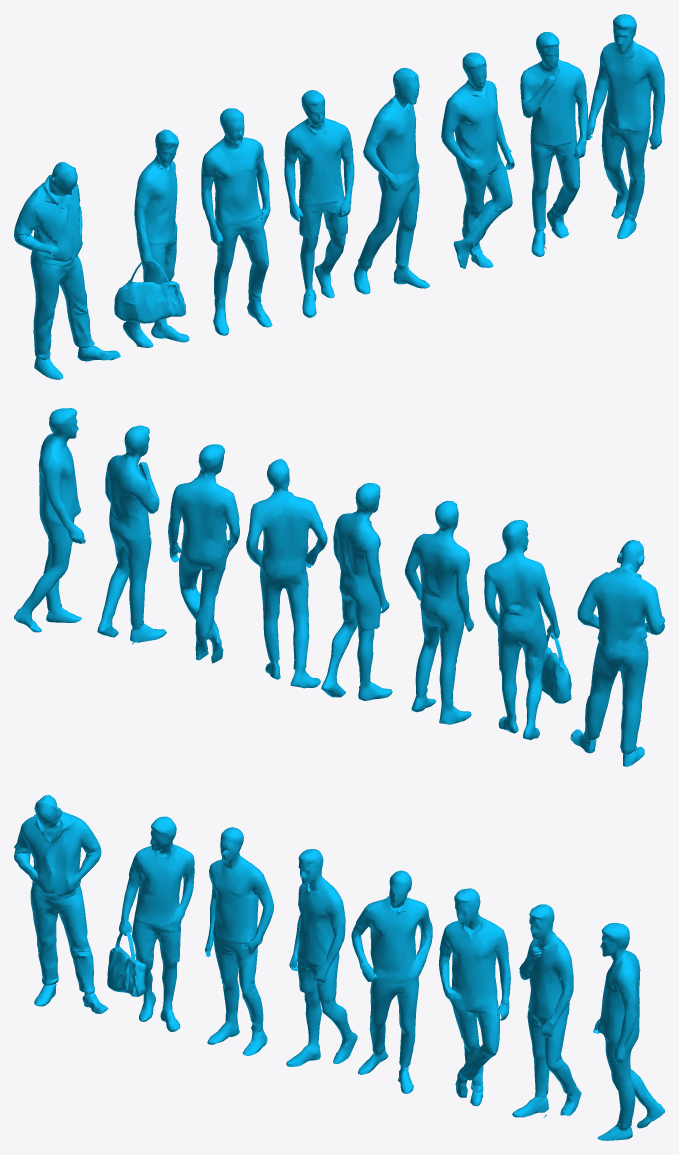
The model's file is LOW_POLY_PEOPLE_PACK_MALE.glb.
3 renders of one model, top to bottom at view 1: azimuth 30°, elevation 25°; view 2: azimuth 150°, elevation 25°; view 3: azimuth 330°, elevation 25°, orthographic.
Visible parts, largest first — view 1: 1__0, 8__0, 3__0, 4__0, 7__0, 2__0, 6__0, 5__0; view 2: 1__0, 2__0, 5__0, 6__0, 3__0, 7__0, 4__0, 8__0; view 3: 1__0, 2__0, 5__0, 6__0, 3__0, 4__0, 7__0, 8__0.
Part boxes in pixels (bbox=[...]): 1__0: bbox=[14, 162, 120, 379]; 8__0: bbox=[586, 14, 664, 238]; 3__0: bbox=[201, 108, 272, 335]; 4__0: bbox=[284, 90, 354, 317]; 7__0: bbox=[520, 32, 587, 256]; 2__0: bbox=[114, 129, 189, 347]; 6__0: bbox=[441, 52, 514, 268]; 5__0: bbox=[353, 67, 429, 294]; 1__0: bbox=[570, 539, 664, 766]; 2__0: bbox=[484, 520, 571, 740]; 5__0: bbox=[246, 459, 327, 688]; 6__0: bbox=[168, 444, 239, 663]; 3__0: bbox=[405, 500, 473, 724]; 7__0: bbox=[97, 425, 166, 644]; 4__0: bbox=[321, 483, 392, 700]; 8__0: bbox=[14, 408, 85, 632]; 1__0: bbox=[14, 795, 108, 1013]; 2__0: bbox=[107, 816, 194, 1031]; 5__0: bbox=[351, 870, 432, 1093]; 6__0: bbox=[439, 888, 510, 1106]; 3__0: bbox=[205, 827, 274, 1055]; 4__0: bbox=[286, 849, 357, 1066]; 7__0: bbox=[512, 904, 581, 1117]; 8__0: bbox=[593, 923, 664, 1140].
Bounding box in the file's own units: 12.02 × 3.92 × 1.62.
